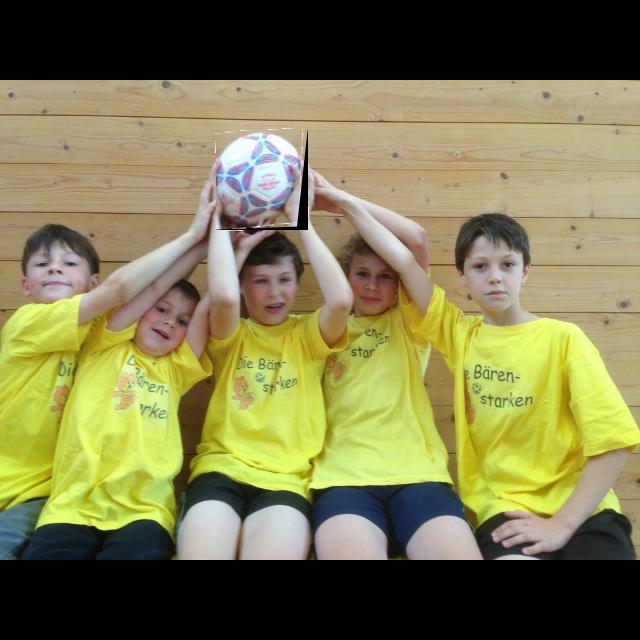Football: (216, 130, 308, 230)
